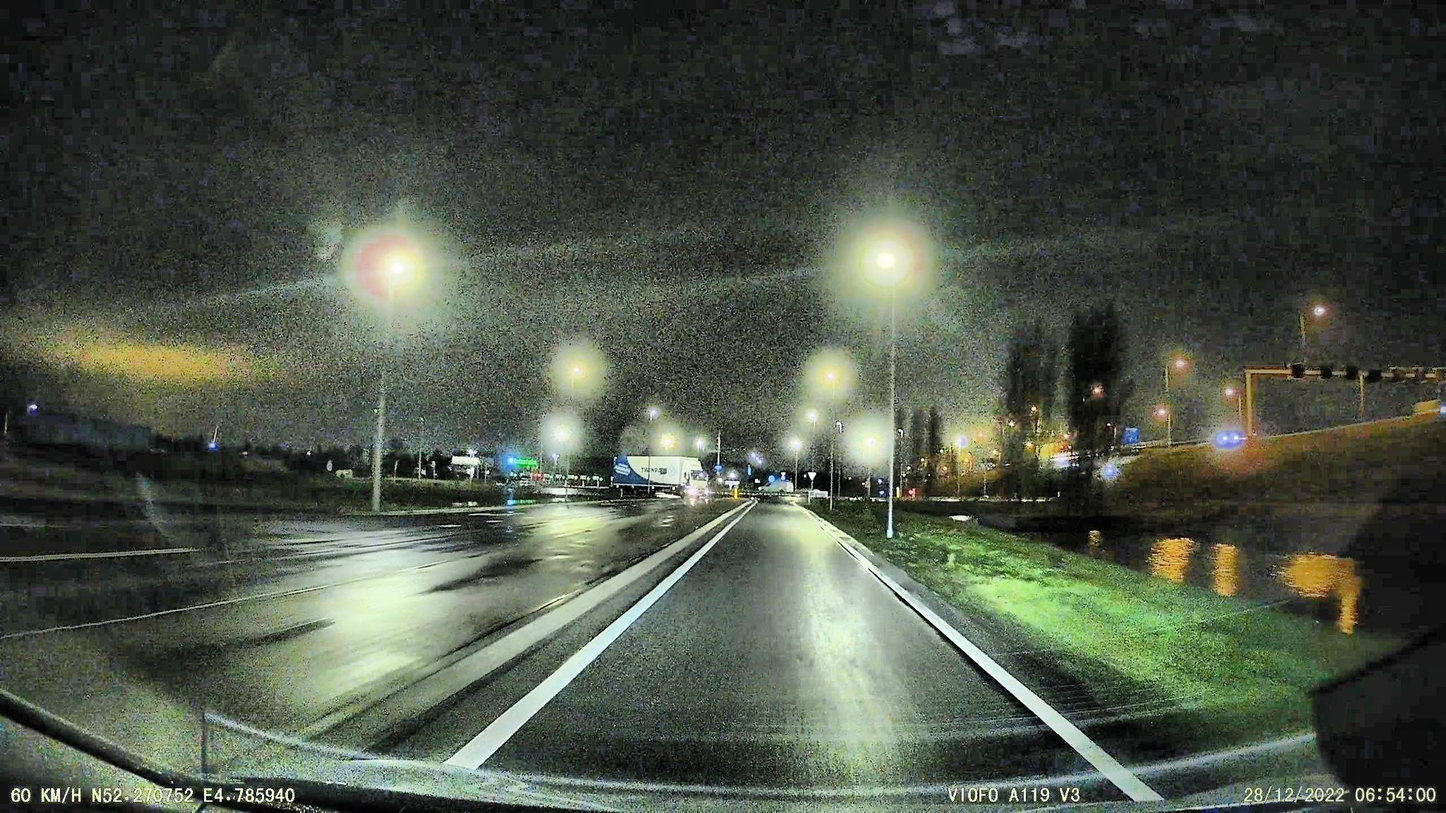Roads: (426, 509, 1112, 785)
